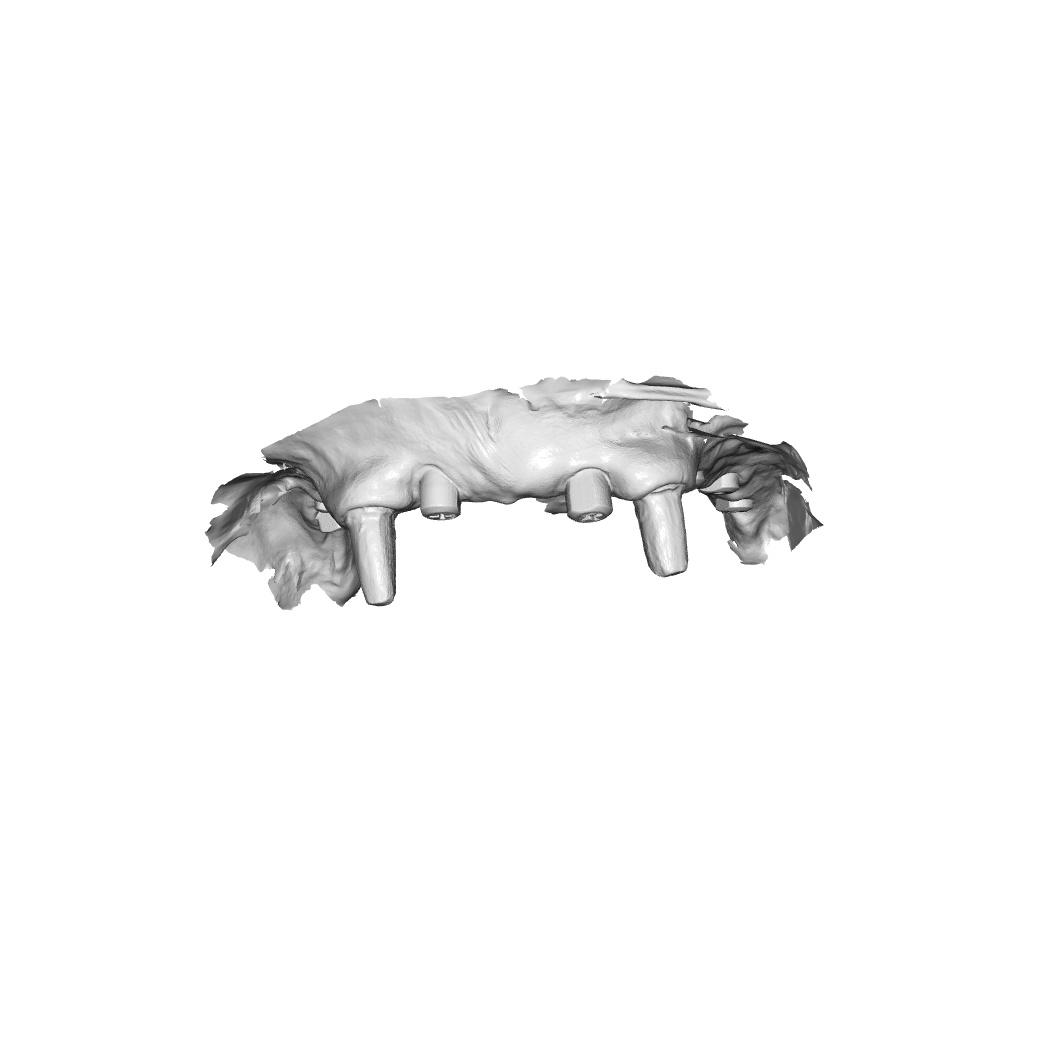crown: (338, 499, 404, 610), (633, 471, 691, 585)
implant: (702, 457, 738, 500), (710, 497, 768, 519), (308, 490, 331, 516)
implant_plus: (543, 462, 622, 540), (413, 464, 472, 538)
